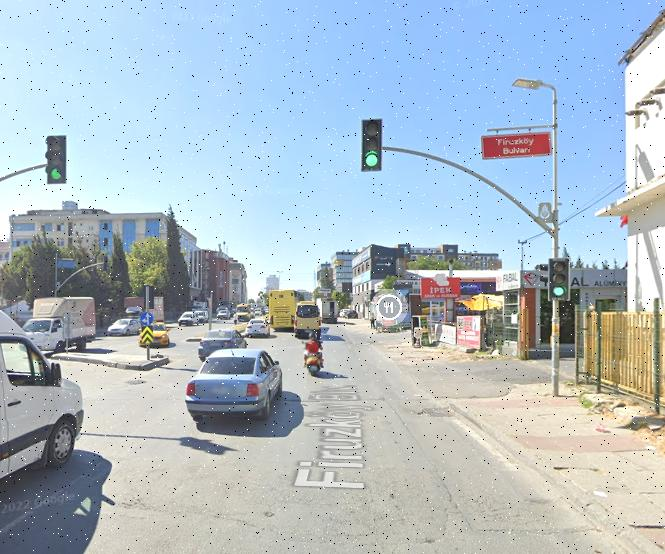greenlight: (359, 117, 387, 173), (44, 132, 67, 181), (547, 257, 568, 297)
